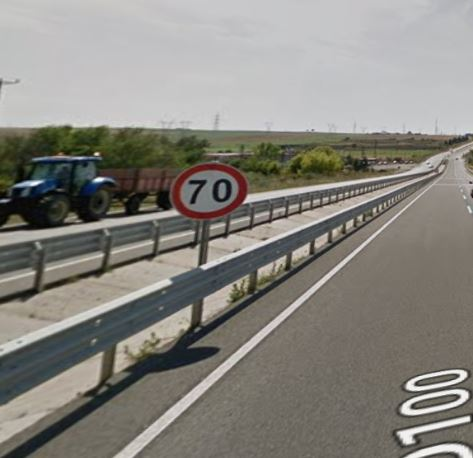70 Km Hiz Siniri: (169, 158, 250, 224)
